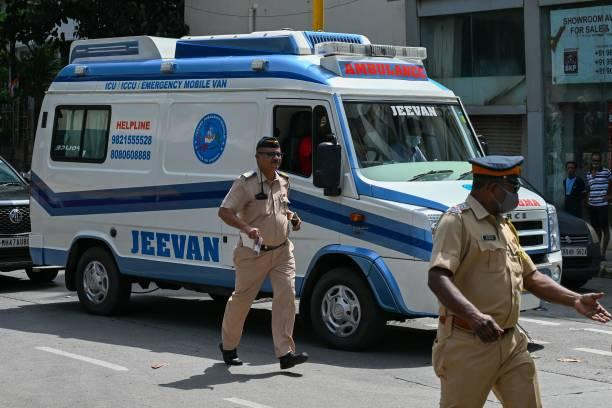AMBULANCE: (55, 103, 169, 181), (116, 222, 225, 275), (105, 73, 241, 96), (337, 61, 430, 84), (385, 101, 446, 125)
